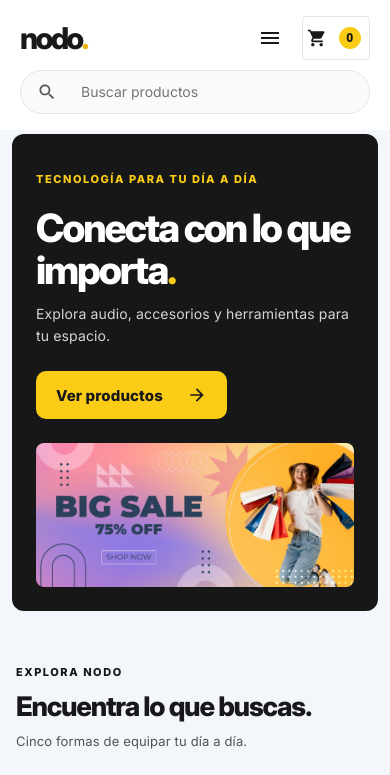
Test: muestra navegación móvil accesible y conserva el aviso de compra sin abrir tarjeta
Later steps or results of the test are not shown.
Step 1. Click the button named "Abrir menú" → (270, 38), box [248,16,292,60]
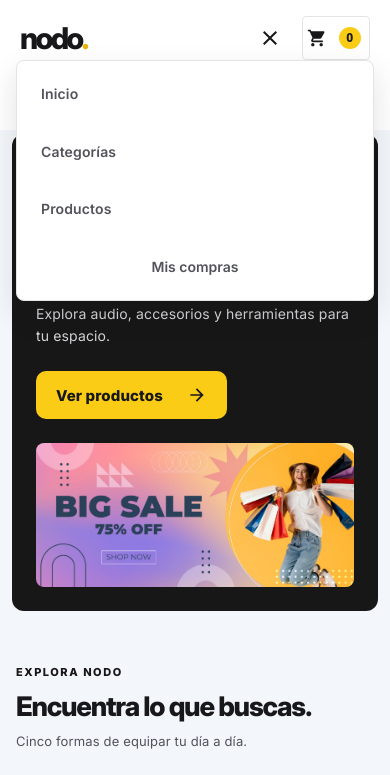
Check: the button named "Cerrar menú" is expanded, box [248,16,292,60]
